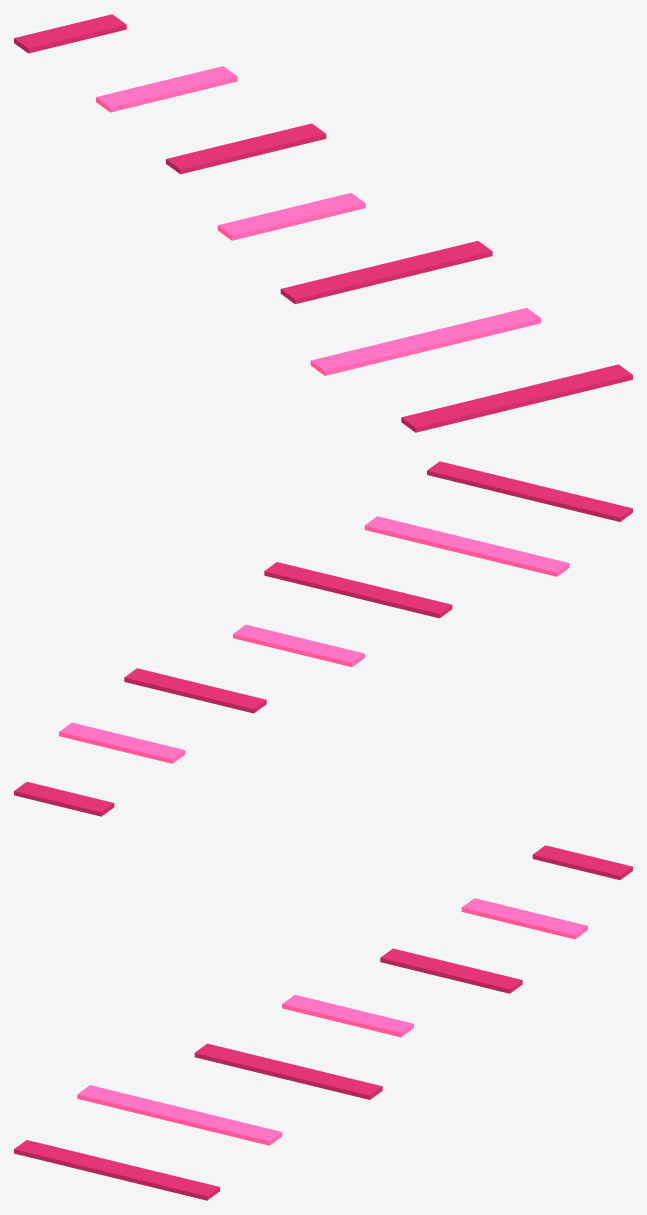
Rendered from glint.glb.
3 views of the same model, one above another, from view 1: azimuth 30°, elevation 25°; view 2: azimuth 150°, elevation 25°; view 3: azimuth 330°, elevation 25° (orthographic). The views are drawn at different scales.
Parts seen in each view (by area): view 1: G6, G5, G4, G2, G3, G1, G0; view 2: G6, G5, G4, G2, G3, G1, G0; view 3: G6, G5, G4, G2, G3, G1, G0.
Part boxes in pixels (box(x1,y1,x2,y2)): G6: box(401, 364, 632, 432); G5: box(310, 308, 541, 375); G4: box(280, 241, 492, 304); G2: box(166, 123, 326, 174); G3: box(217, 193, 365, 240); G1: box(96, 66, 237, 112); G0: box(14, 14, 126, 53); G6: box(427, 461, 632, 521); G5: box(364, 516, 569, 576); G4: box(264, 562, 452, 618); G2: box(124, 668, 266, 713); G3: box(233, 624, 364, 666); G1: box(59, 722, 185, 763); G0: box(14, 782, 114, 816); G6: box(14, 1140, 219, 1200); G5: box(77, 1085, 282, 1145); G4: box(194, 1043, 382, 1099); G2: box(380, 948, 522, 993); G3: box(282, 995, 413, 1037); G1: box(461, 898, 587, 939); G0: box(532, 845, 632, 879).
Bounding box in the file's own units: 1.6 × 0.03 × 5.56.
